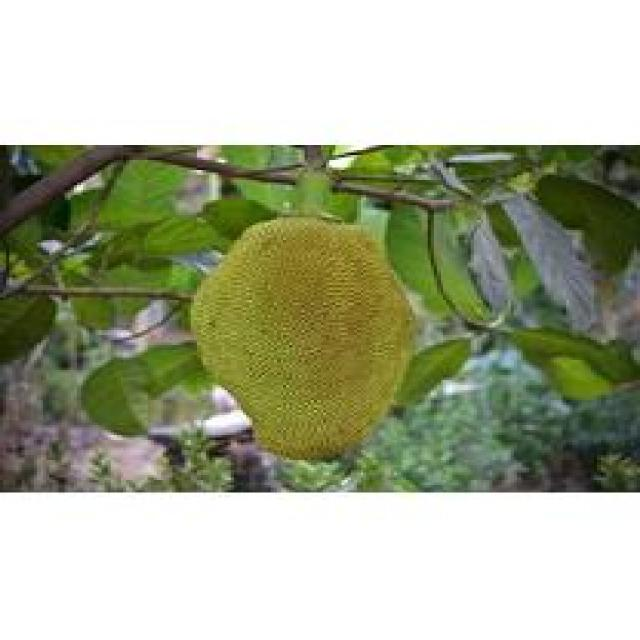Fruit: (182, 203, 443, 475)
